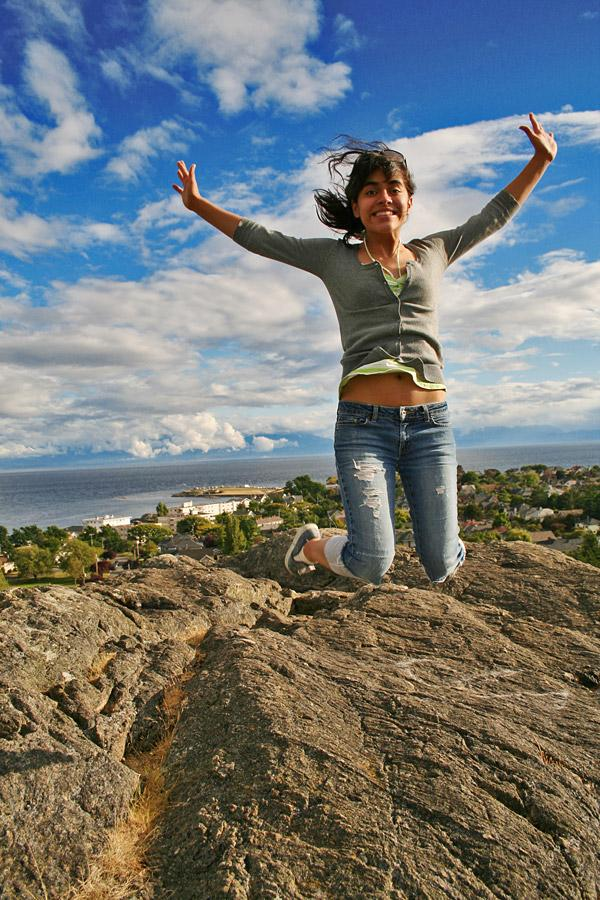person: (178, 112, 560, 594)
